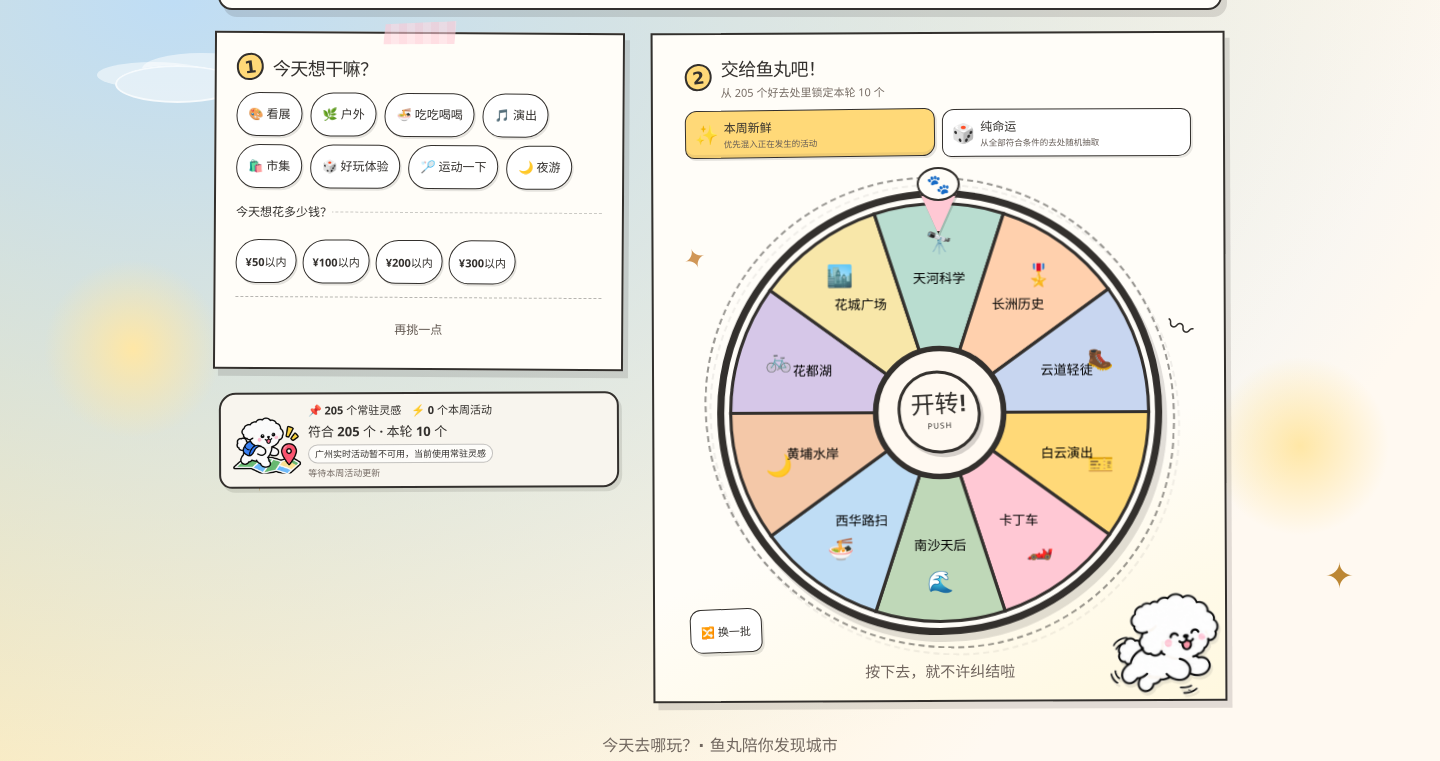
Scenario: quick play controls cannot change the candidate pool during a spin
This screenshot has width=1440, height=761.
(page scrolled)
Click the button with aria-label "开转！" at (939, 412), box [895,368,983,456]
(page scrolled)
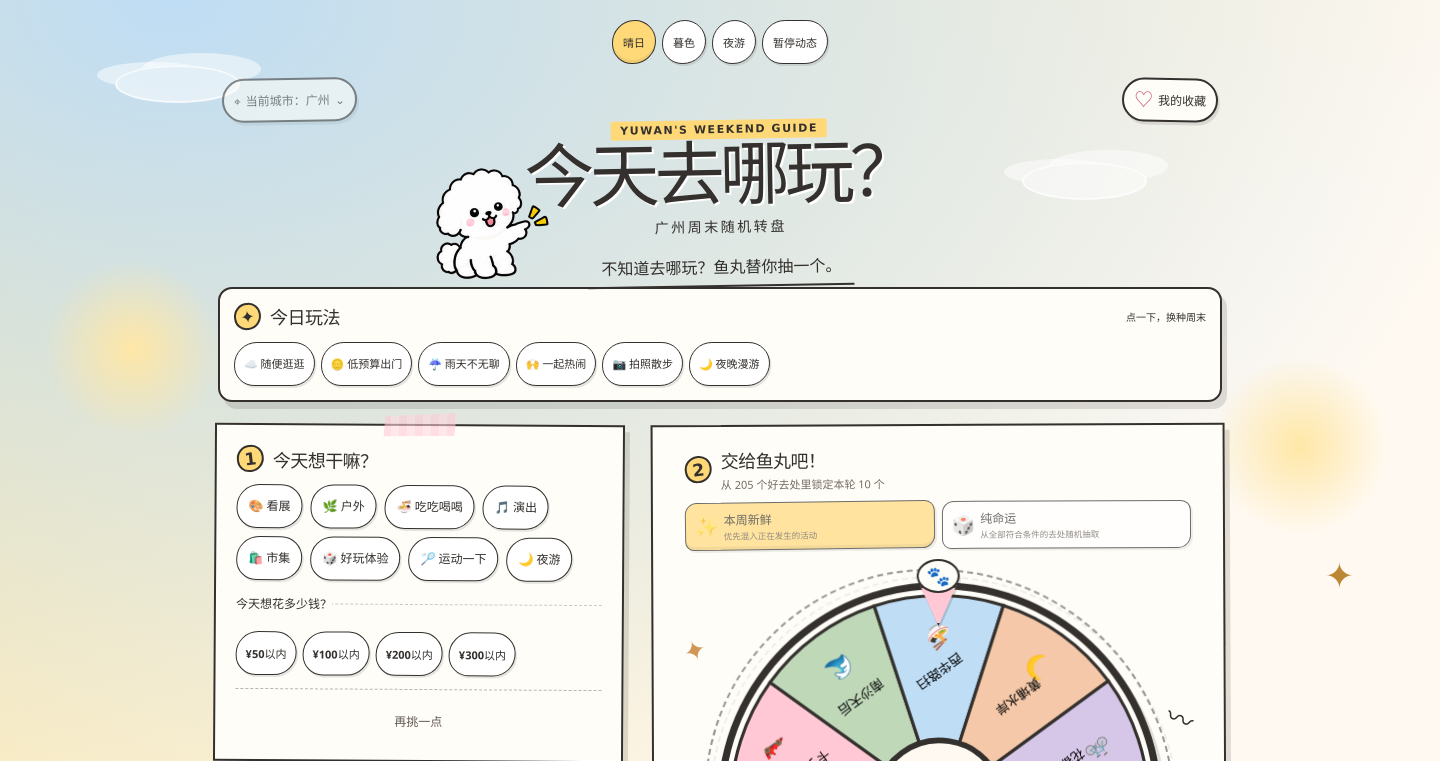
Check: the button "🪙 低预算出门" is disabled, box [321,342,412,386]
Check: the button "☔ 雨天不无聊" is disabled, box [418,342,510,386]
